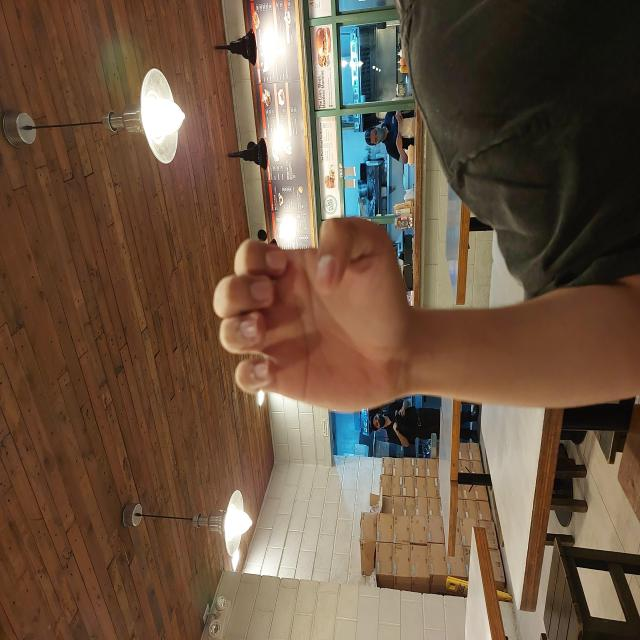E: (224, 211, 424, 416)
